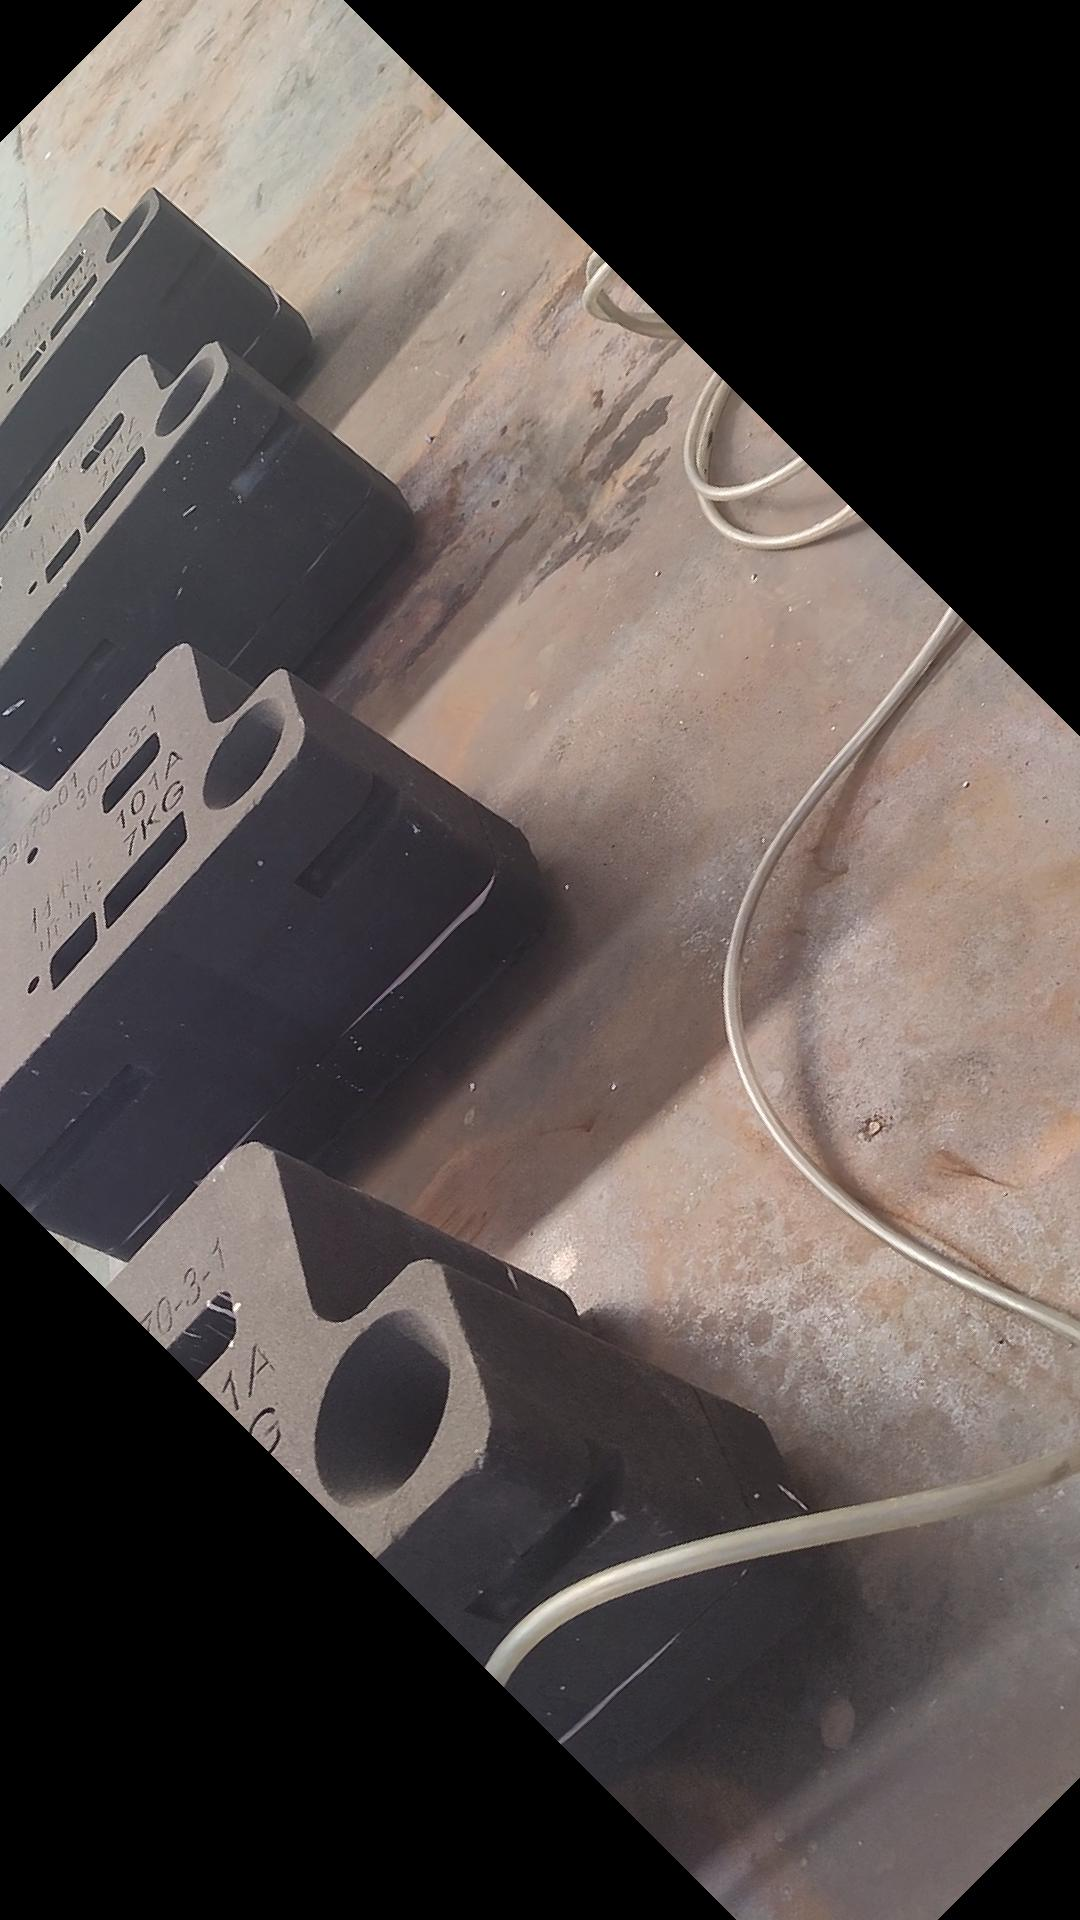pouring hole: (313, 1307, 452, 1506), (202, 695, 286, 810), (150, 353, 215, 436), (104, 198, 153, 262)
